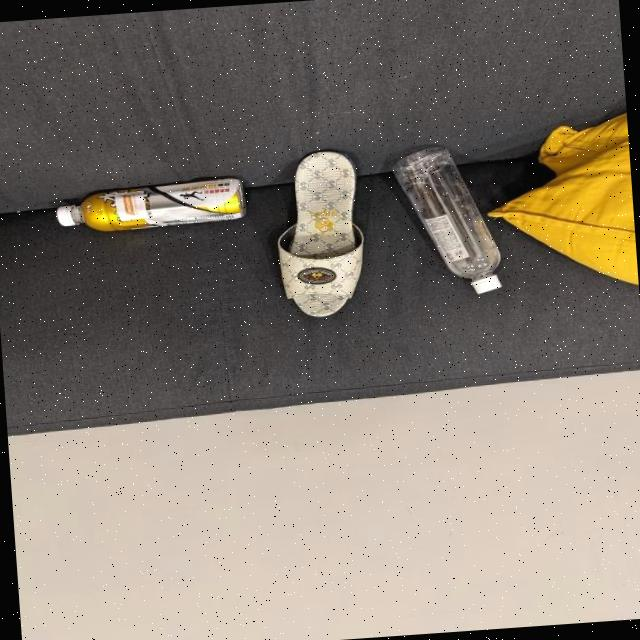bottle: (387, 150, 512, 300), (48, 180, 244, 237)
cap: (464, 272, 509, 302), (54, 196, 80, 228)
label: (78, 176, 240, 230)
